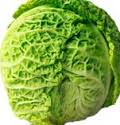cabbage: (1, 3, 120, 120)
